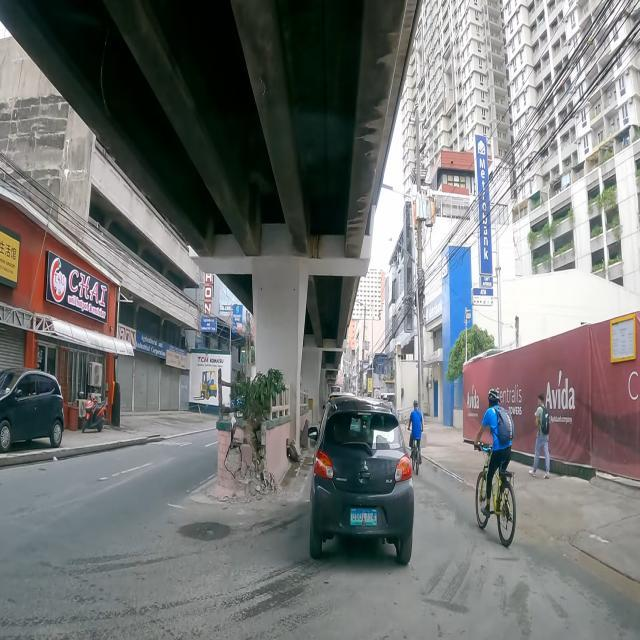bike: (473, 387, 517, 548), (408, 399, 424, 476)
car: (306, 397, 414, 564), (0, 368, 65, 450)
motorcycle: (82, 393, 106, 432)
